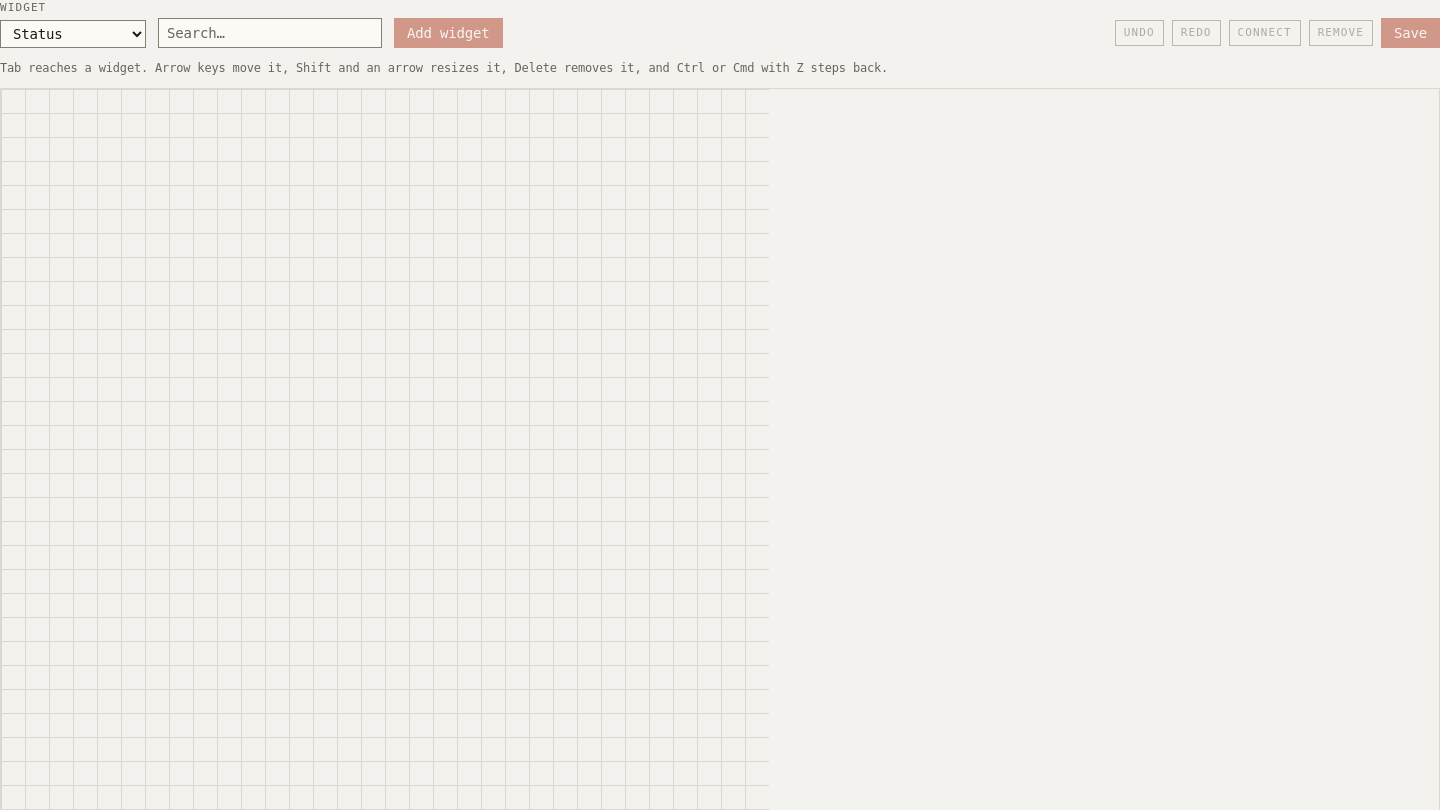
Test case: editing one › adds a custom HTML tile without asking which object it draws
The image size is (1440, 810).
Select "Custom HTML" in the dropdown labelled "Widget" at [73, 34], box [0, 20, 146, 48]
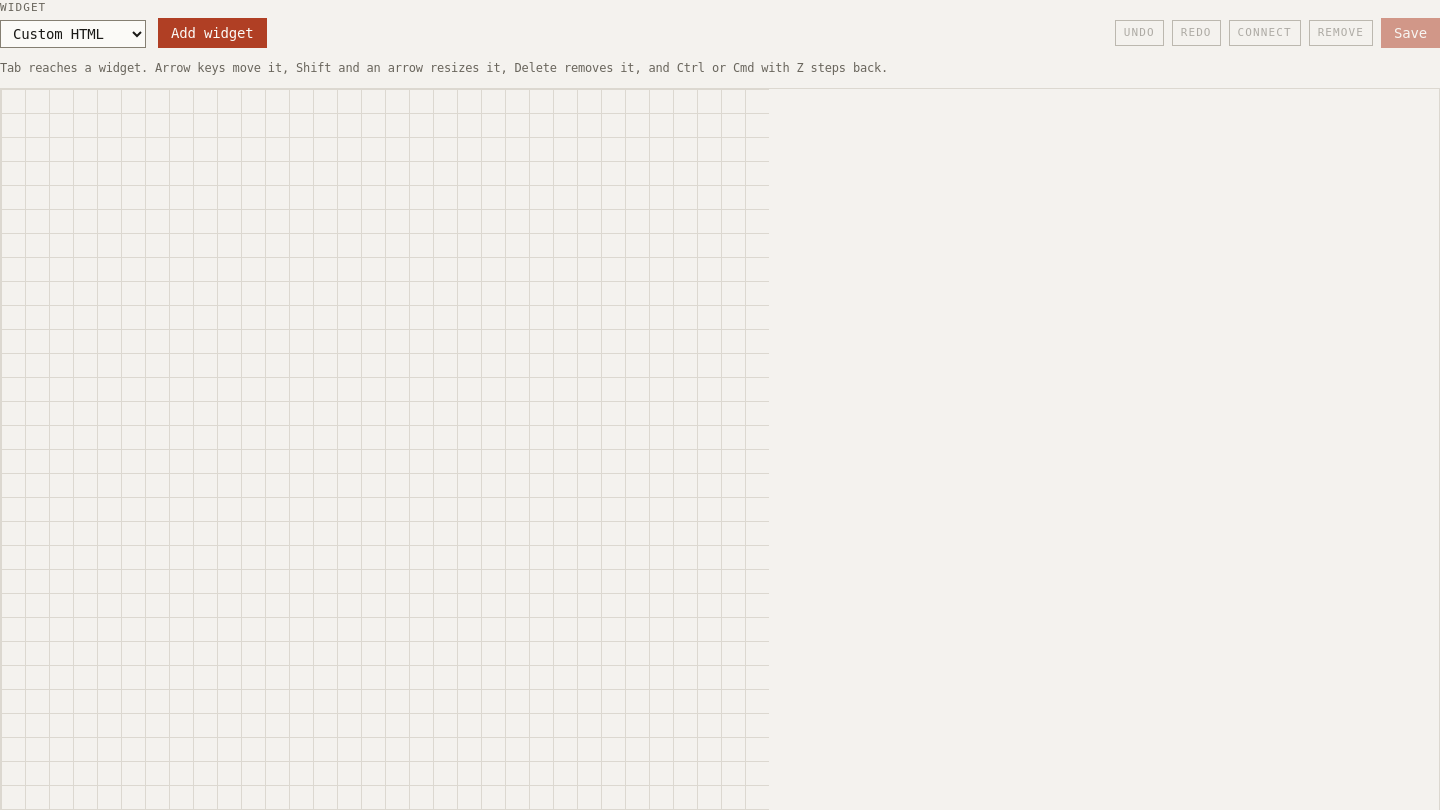
Expected: the field labelled "Sensor" is not shown
Expected: the button "Add widget" is enabled
Click the button "Add widget" at [212, 33], box [158, 18, 266, 48]
(page scrolled)
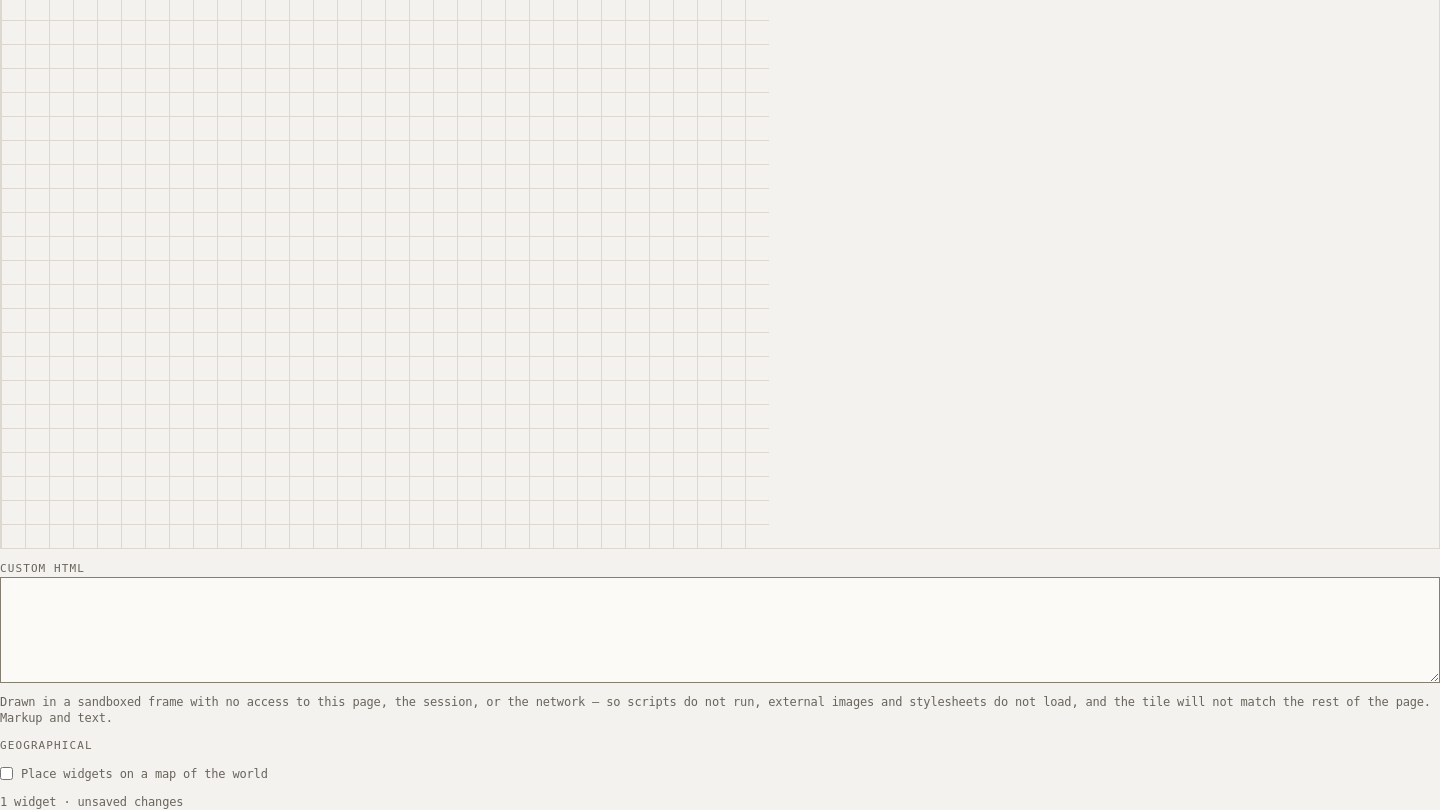
Expected: the text box labelled "Custom HTML" is shown, [0, 577, 1439, 683]
